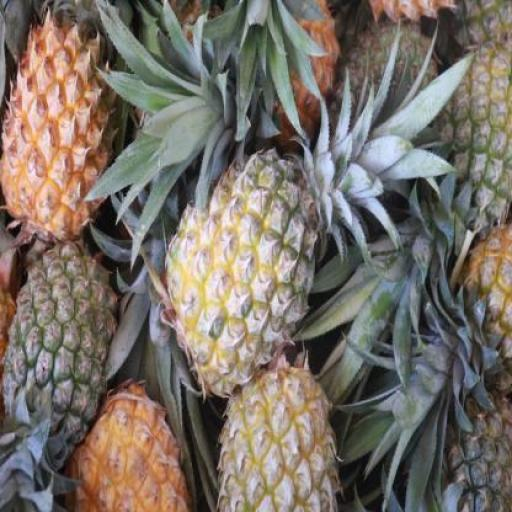------------------------------: (166, 144, 319, 391), (216, 360, 339, 512)
Pineapple - v8 v1: (0, 8, 112, 236), (69, 380, 192, 511)
